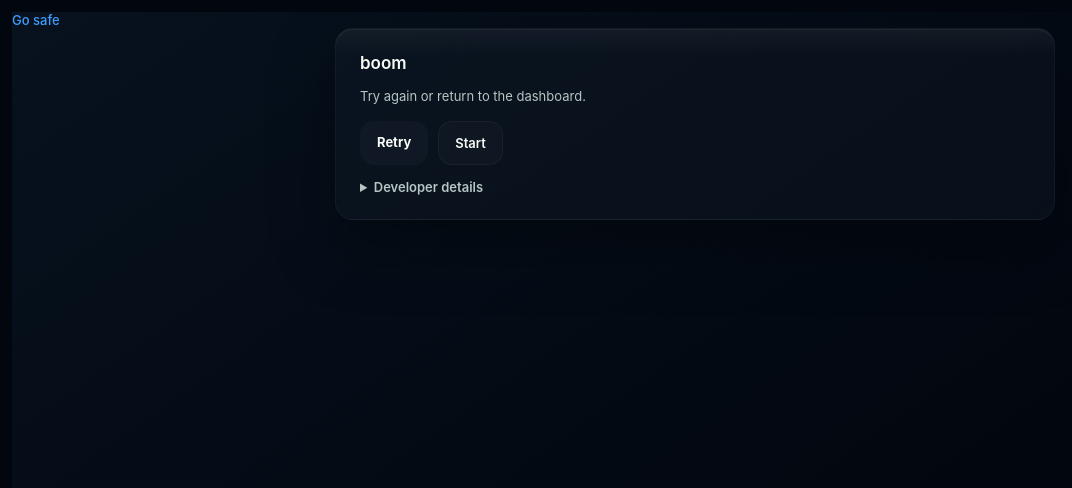
Test case: ErrorBoundary › resets when the route pathname changes
Expected: the heading "boom" is shown, [360,53,407,73]
Click the link "Go safe". click: (36, 20)
box: [12,12,60,28]
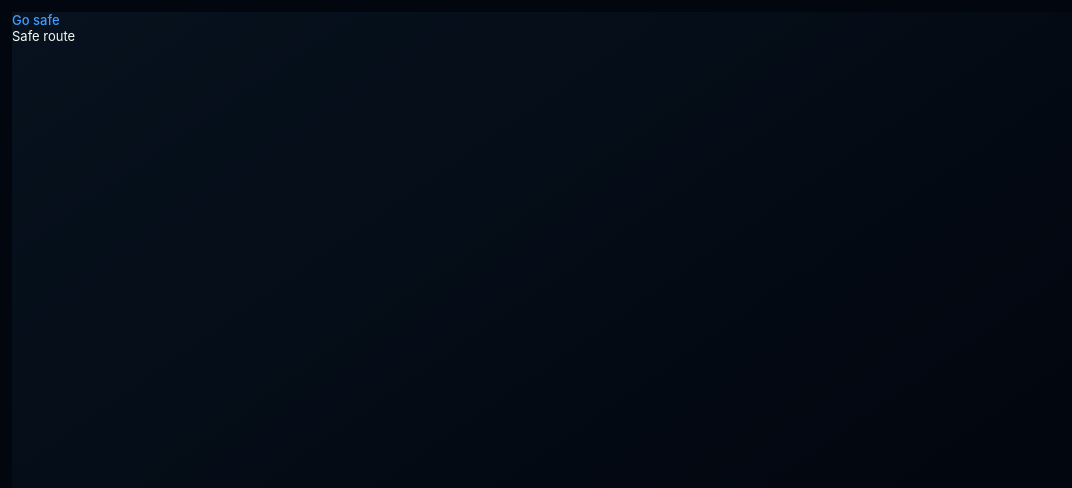
Expected: the text "Safe route" is shown, [12,28,75,44]
